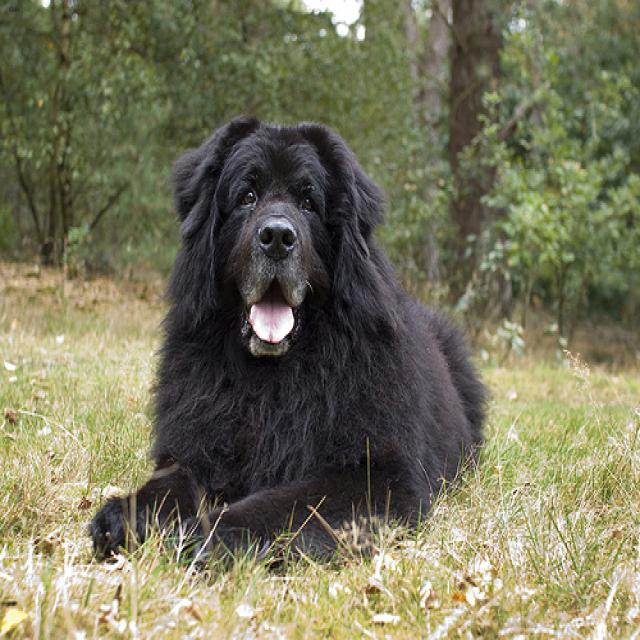dog-newfoundland: (77, 108, 495, 580)
